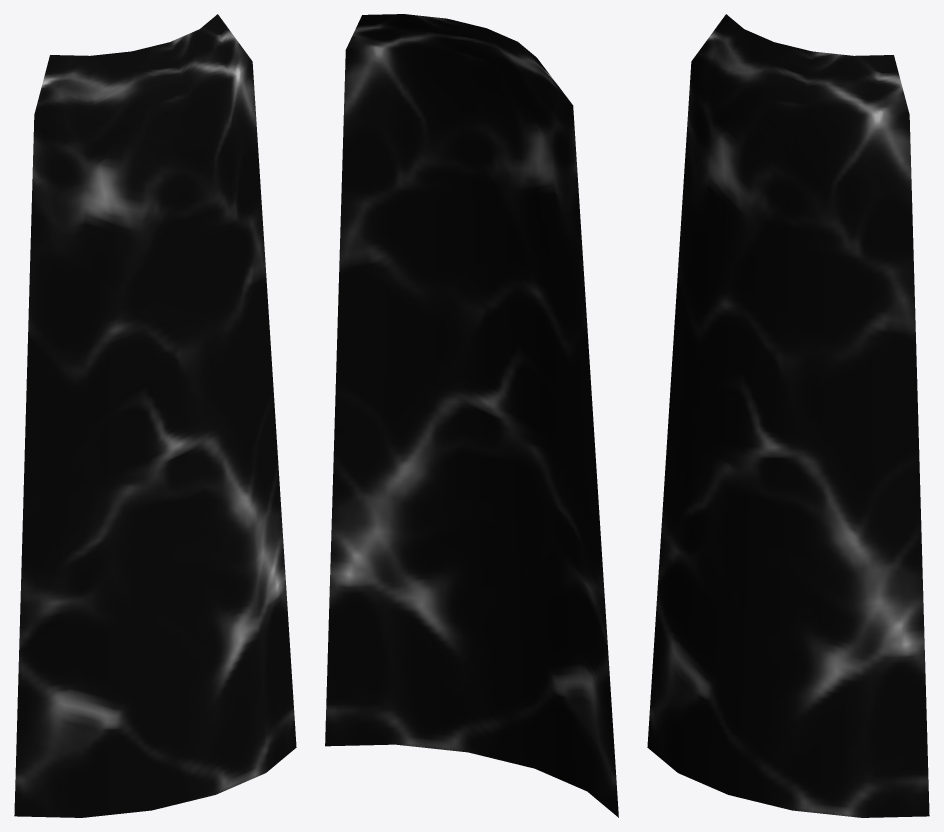
File: waterfall_mesh.FBX
3 renders of one model, left to right at view 1: azimuth 30°, elevation 25°; view 2: azimuth 150°, elevation 25°; view 3: azimuth 330°, elevation 25°, orthographic. The views are drawn at different scales.
Visible parts, largest first — view 1: Cone001; view 2: Cone001; view 3: Cone001.
Part boxes in pixels (left/top/right/bottom): Cone001: left=14, top=14, right=296, bottom=817; Cone001: left=325, top=14, right=618, bottom=817; Cone001: left=647, top=14, right=929, bottom=817.
Size of the model in its own units: 698 by 1730 by 214.
